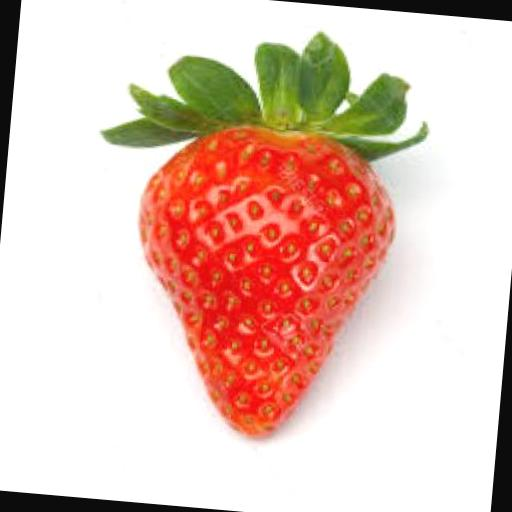biodegradable: (76, 12, 440, 452)
